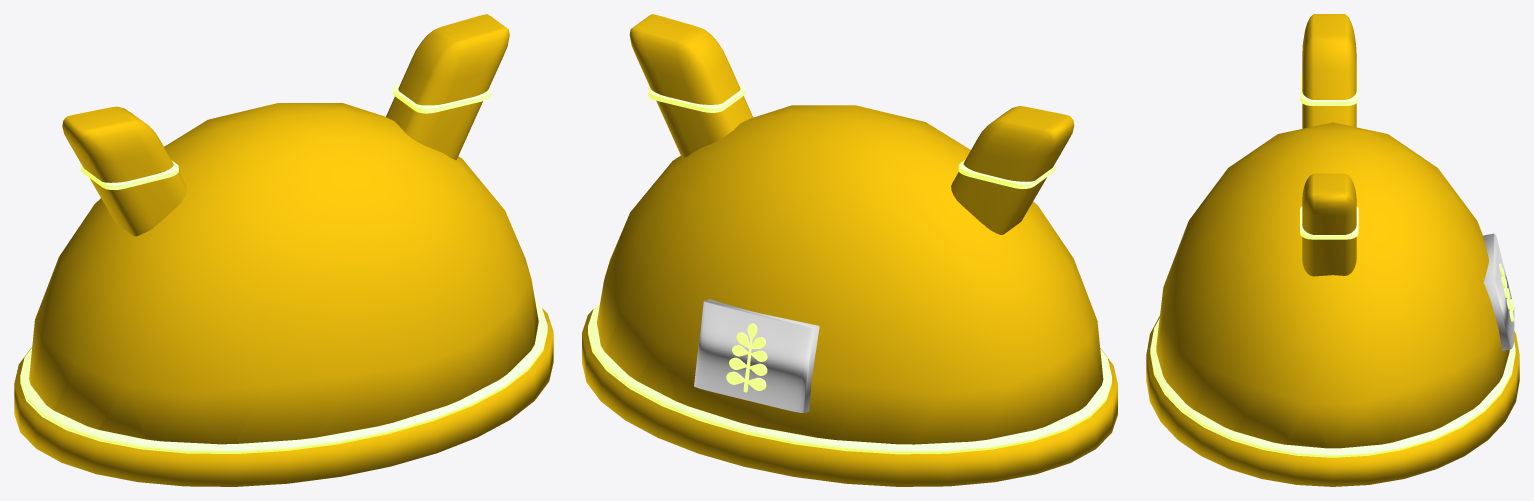
Rendered from harHat.fbx.
3 views of the same model, side by side, from view 1: azimuth 30°, elevation 25°; view 2: azimuth 150°, elevation 25°; view 3: azimuth 270°, elevation 25° (orthographic). The views are drawn at different scales.
Parts seen in each view (by area): view 1: Icosphere.170, Cube.030, Icosphere.167, Icosphere.168, Cube.029; view 2: Icosphere.170, Cube.030, Icosphere.167, Cube.028, Icosphere.168, Cube.029; view 3: Icosphere.170, Icosphere.167, Cube.030, Icosphere.168, Cube.028, Cube.029.
Boxes of the visible parts, x1,y1,x2,y2 form: Icosphere.170: (29, 103, 538, 444); Cube.030: (62, 14, 509, 236); Icosphere.167: (14, 308, 553, 486); Icosphere.168: (20, 301, 547, 453); Cube.029: (81, 84, 491, 189); Icosphere.170: (597, 105, 1103, 444); Cube.030: (629, 14, 1074, 234); Icosphere.167: (582, 309, 1117, 486); Cube.028: (694, 299, 819, 412); Icosphere.168: (588, 302, 1111, 454); Cube.029: (648, 83, 1055, 188); Icosphere.170: (1156, 122, 1509, 448); Icosphere.167: (1146, 316, 1519, 486); Cube.030: (1302, 14, 1356, 276); Icosphere.168: (1150, 318, 1515, 457); Cube.028: (1483, 233, 1514, 350); Cube.029: (1300, 73, 1358, 239).
Size of the model in its own units: 209 by 128 by 156.
